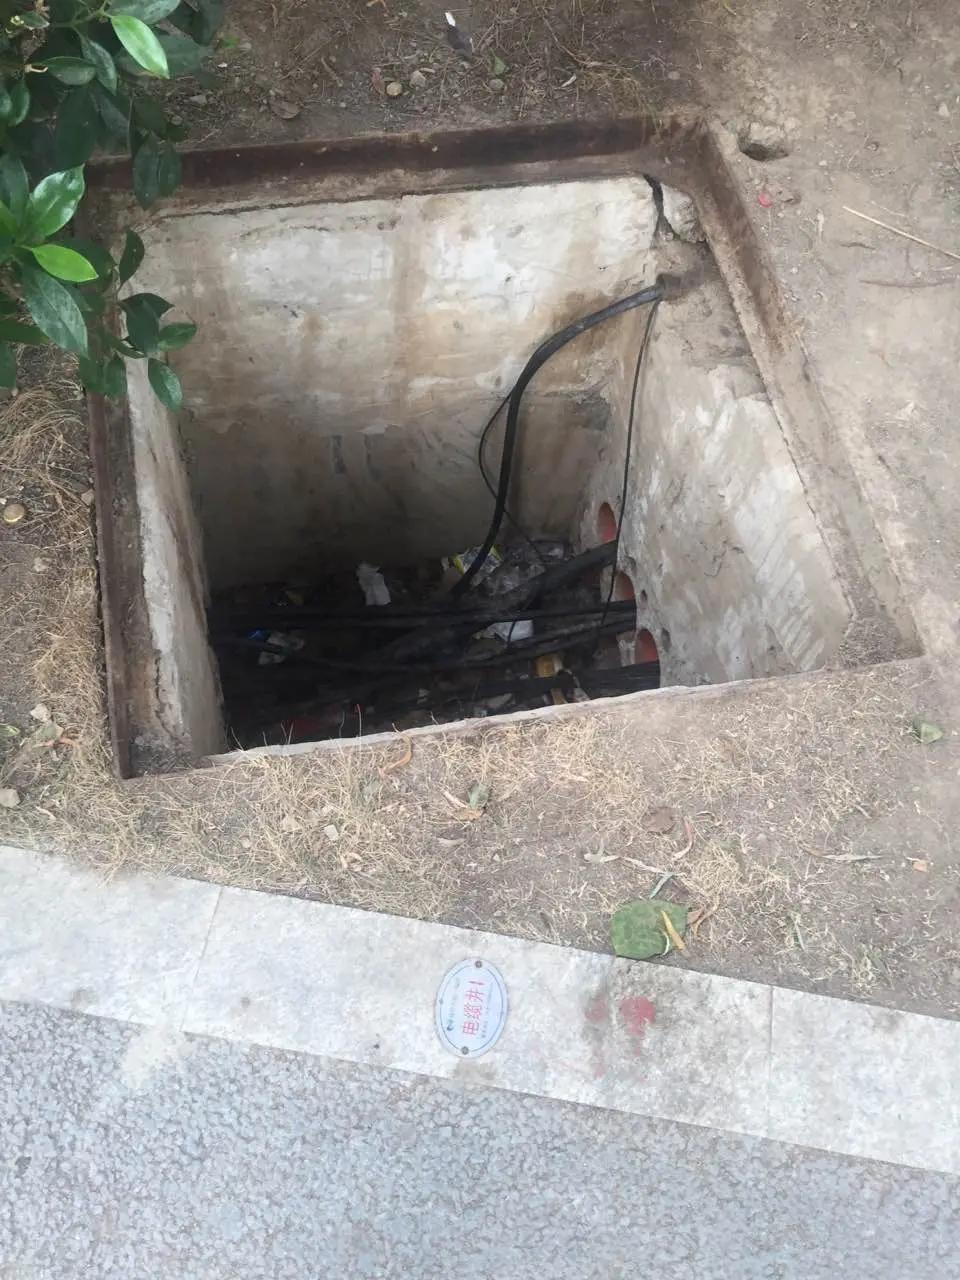wellcover: (0, 89, 960, 783)
